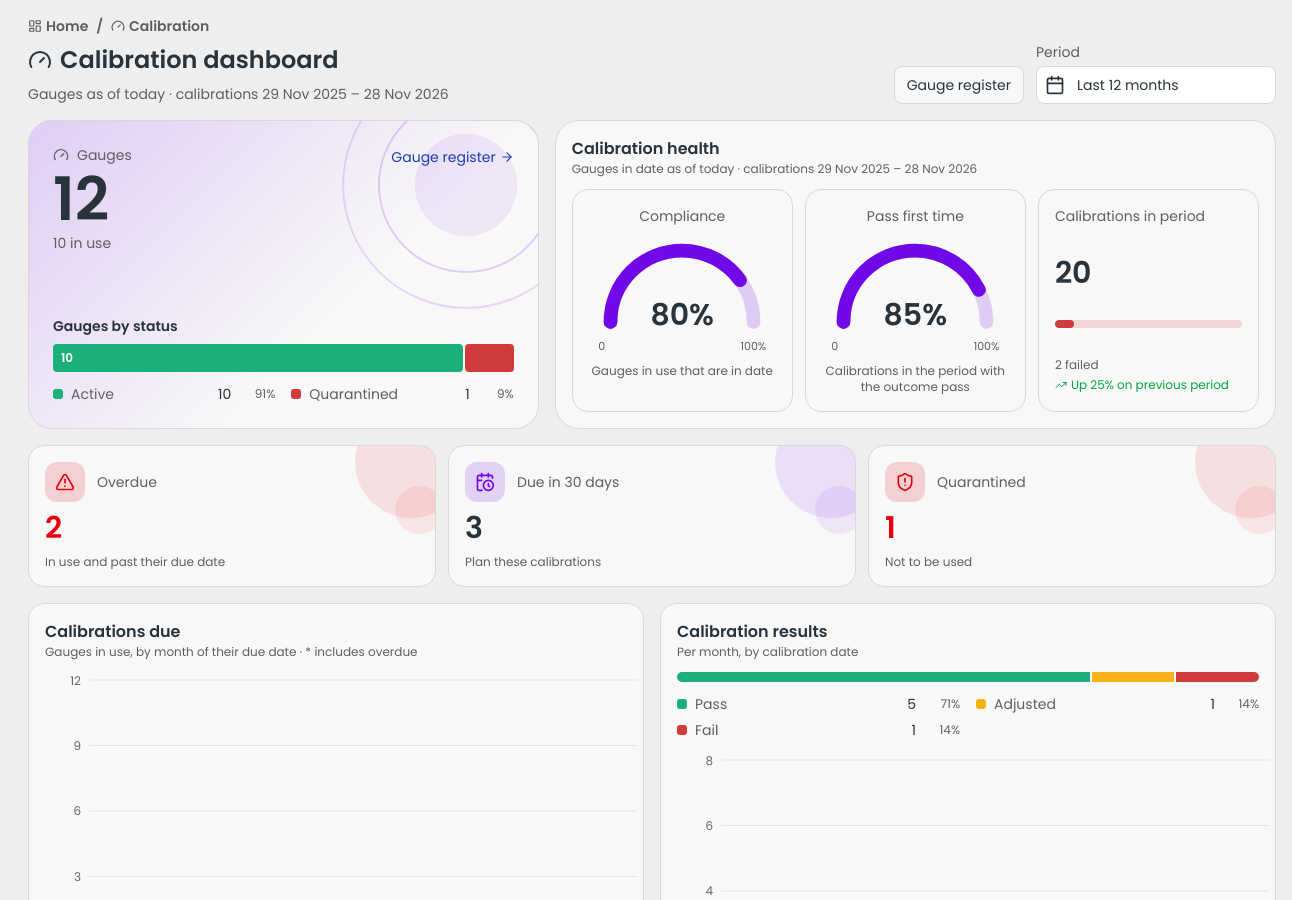
Test: calibration dashboard › shows gauge KPIs and links to the filtered register
The image size is (1292, 900).
Expected: the link "Quarantined 1 Not to be used" is shown, [868, 445, 1276, 587]
Expected: the text "85%" is shown, [884, 294, 947, 336]
Click the link "Overdue 2 In use and past their due date". click: (65, 482)
box: [28, 445, 436, 587]
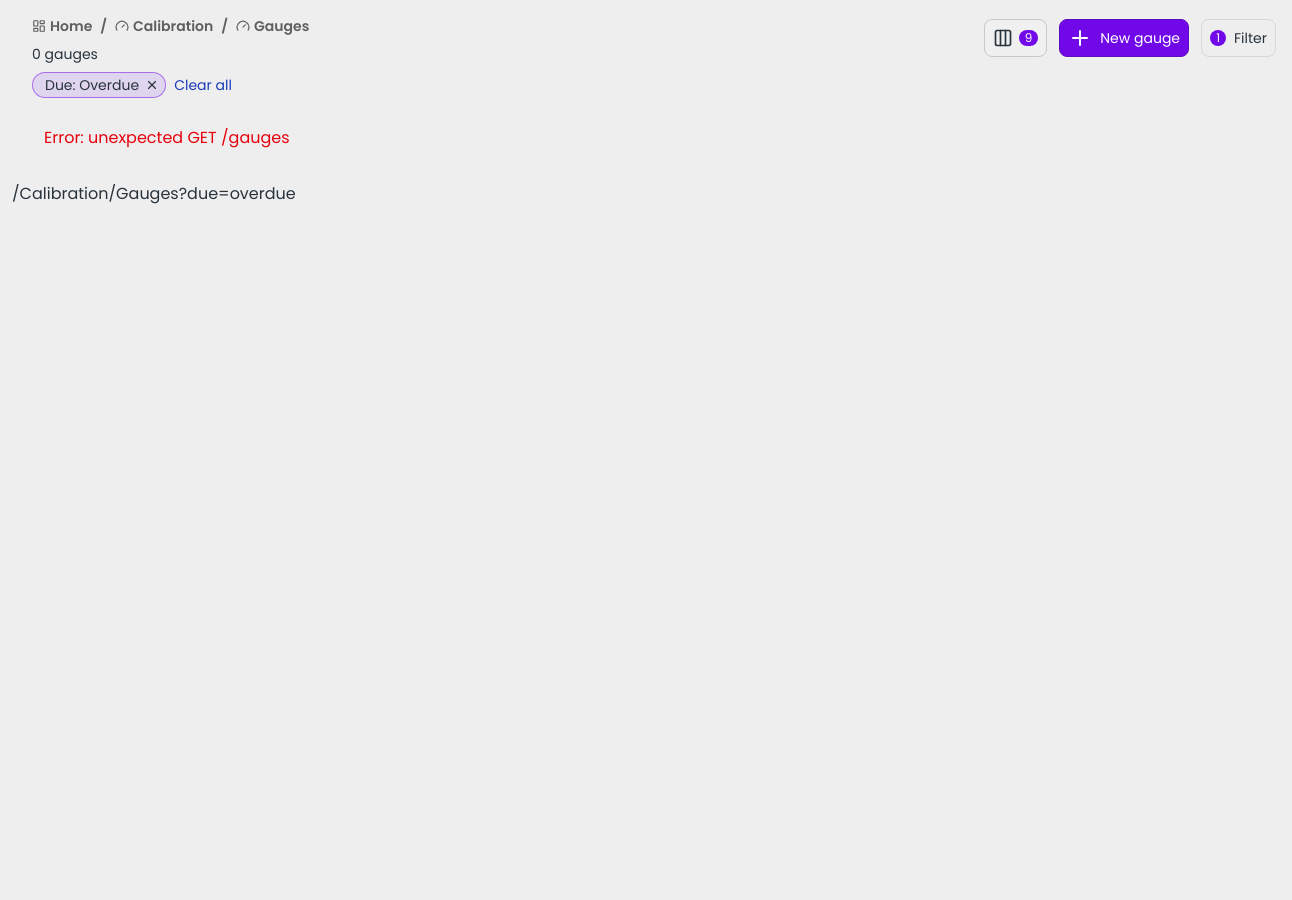
Expected: the text with test id "where" reads "/Calibration/Gauges?due=overdue", [12, 182, 296, 205]
